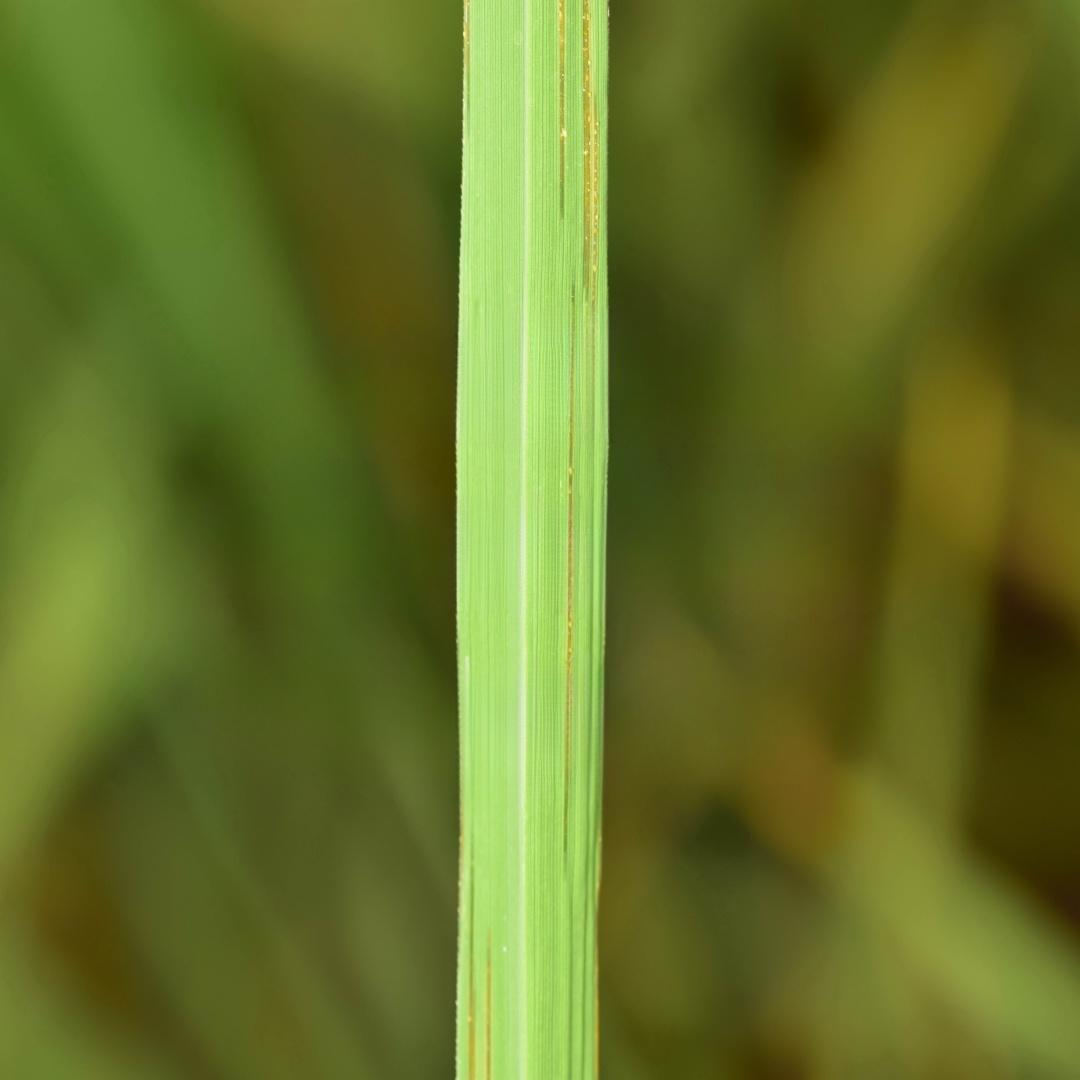BLS: (564, 284, 574, 854), (583, 0, 599, 351), (468, 835, 476, 1077), (558, 0, 566, 219), (485, 931, 491, 1077), (464, 0, 470, 111)
LEAF: (456, 0, 608, 1079)
